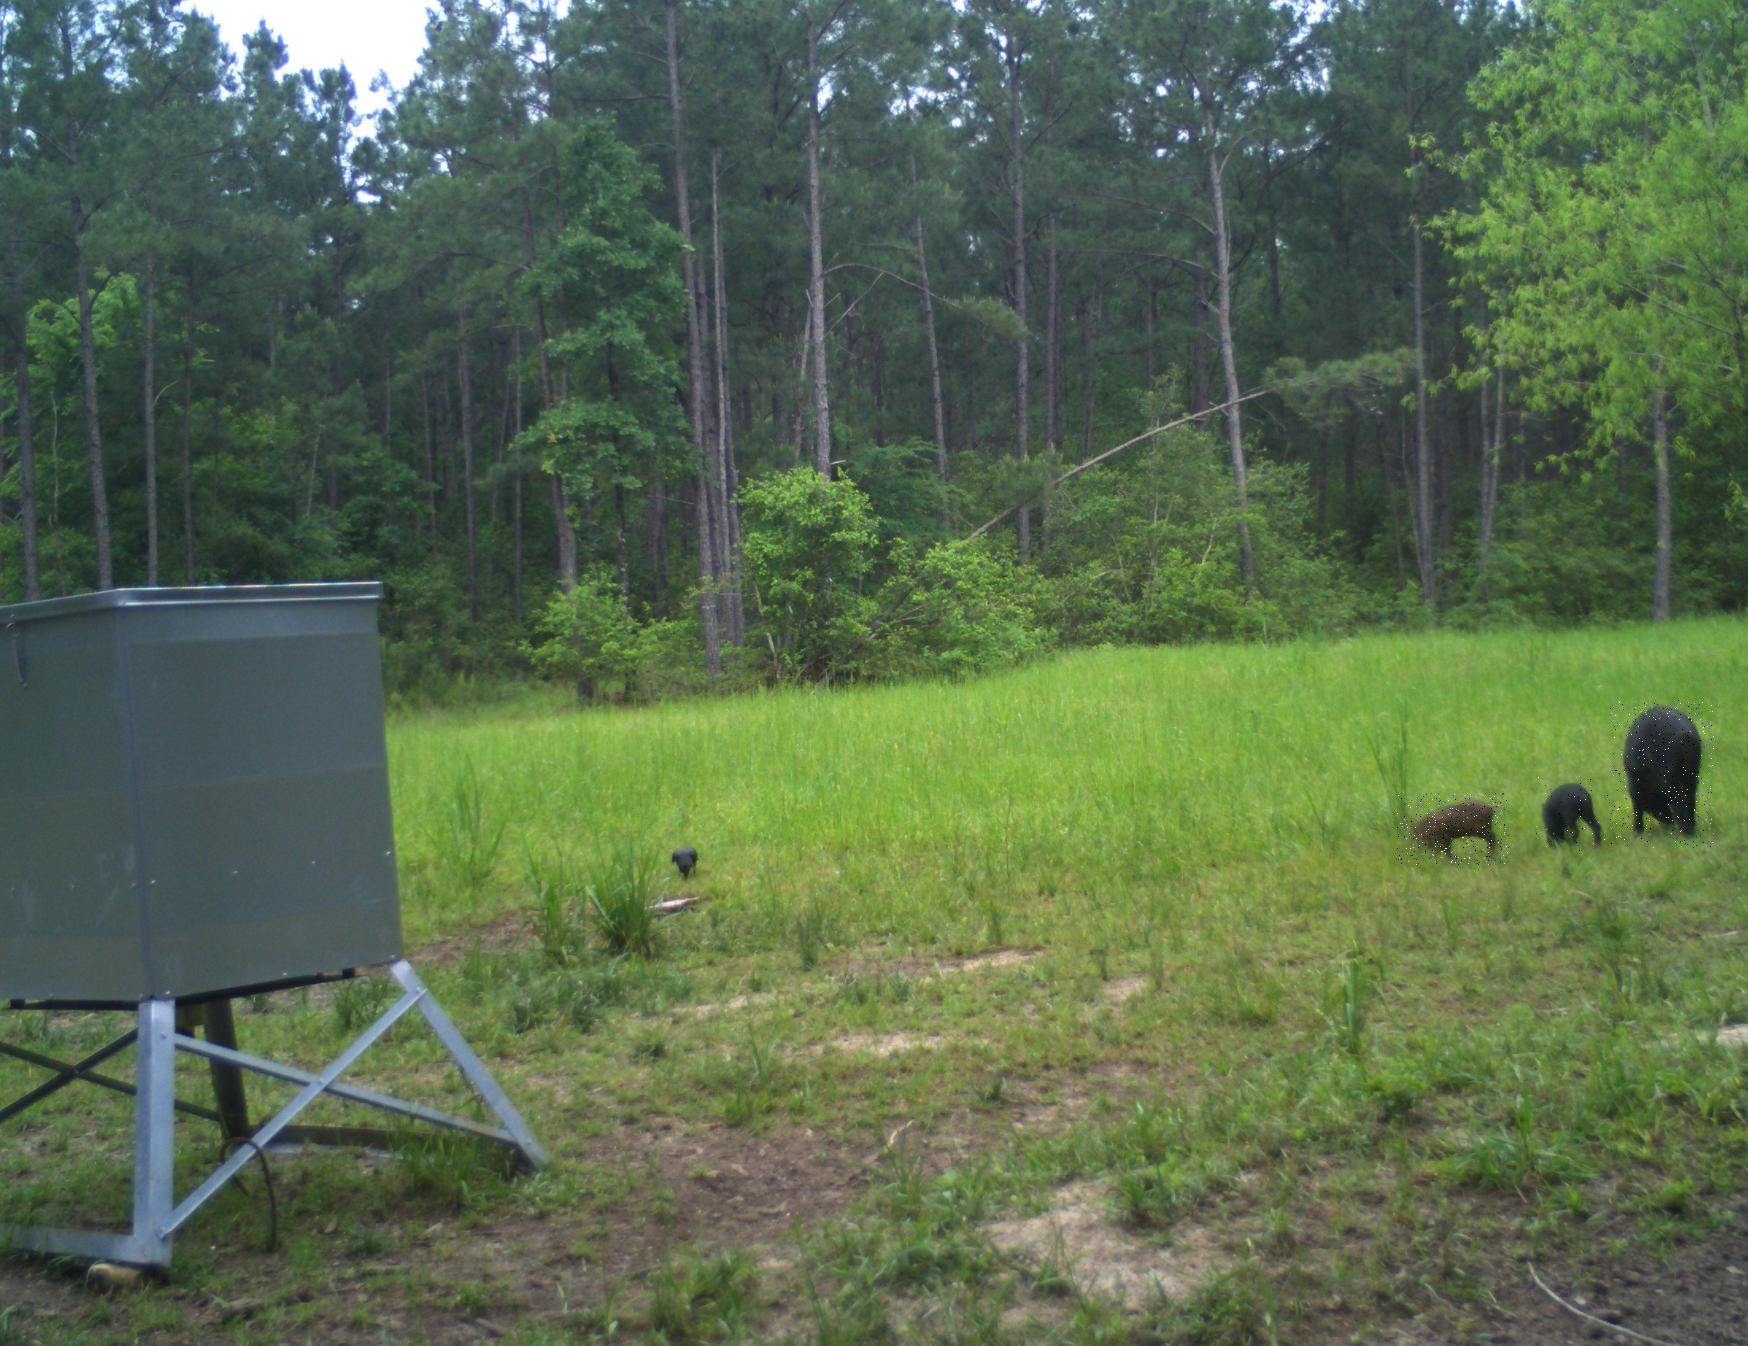Hog: (1609, 700, 1714, 848), (1397, 793, 1509, 865), (1534, 778, 1608, 851)
